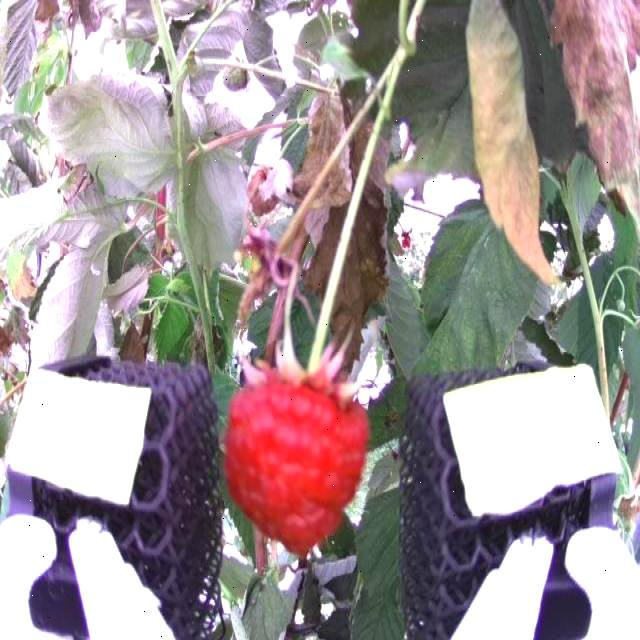Riped berries: (222, 367, 371, 557)
